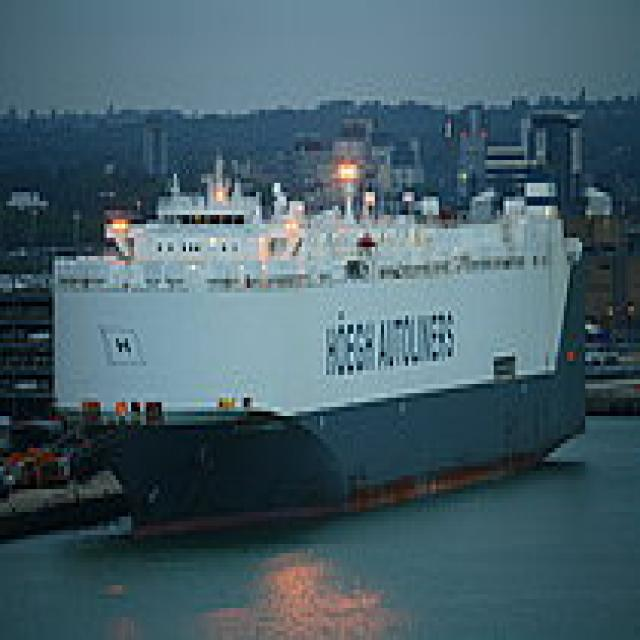Carrier: (43, 146, 588, 540)
